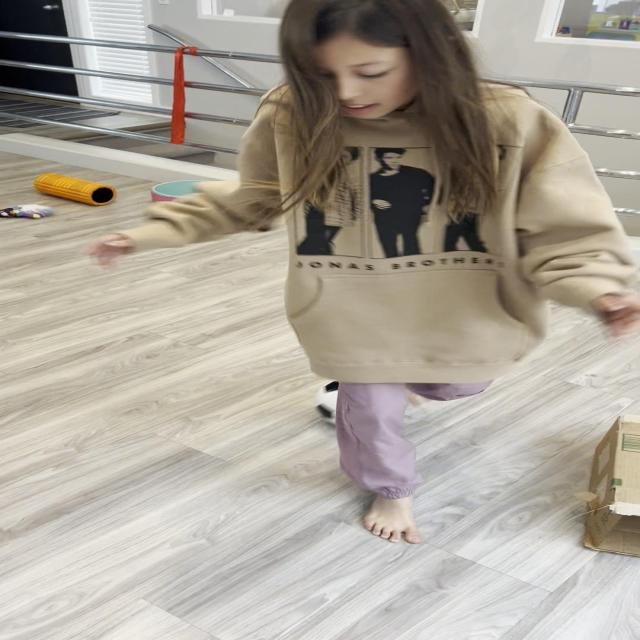Soccer Ball: (314, 377, 408, 428)
